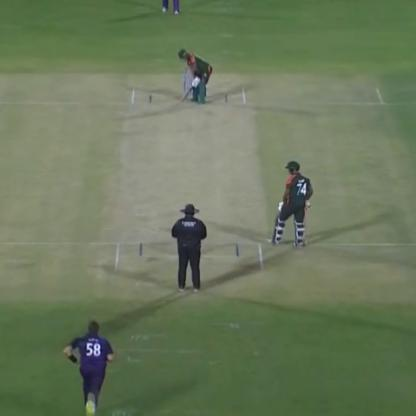bat: (182, 72, 199, 101)
pitch: (106, 85, 264, 278)
